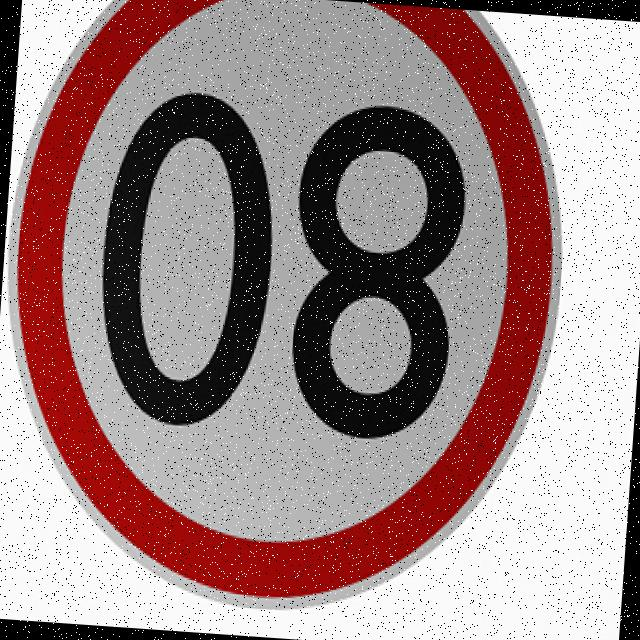speed_limit_80: (0, 0, 581, 635)
